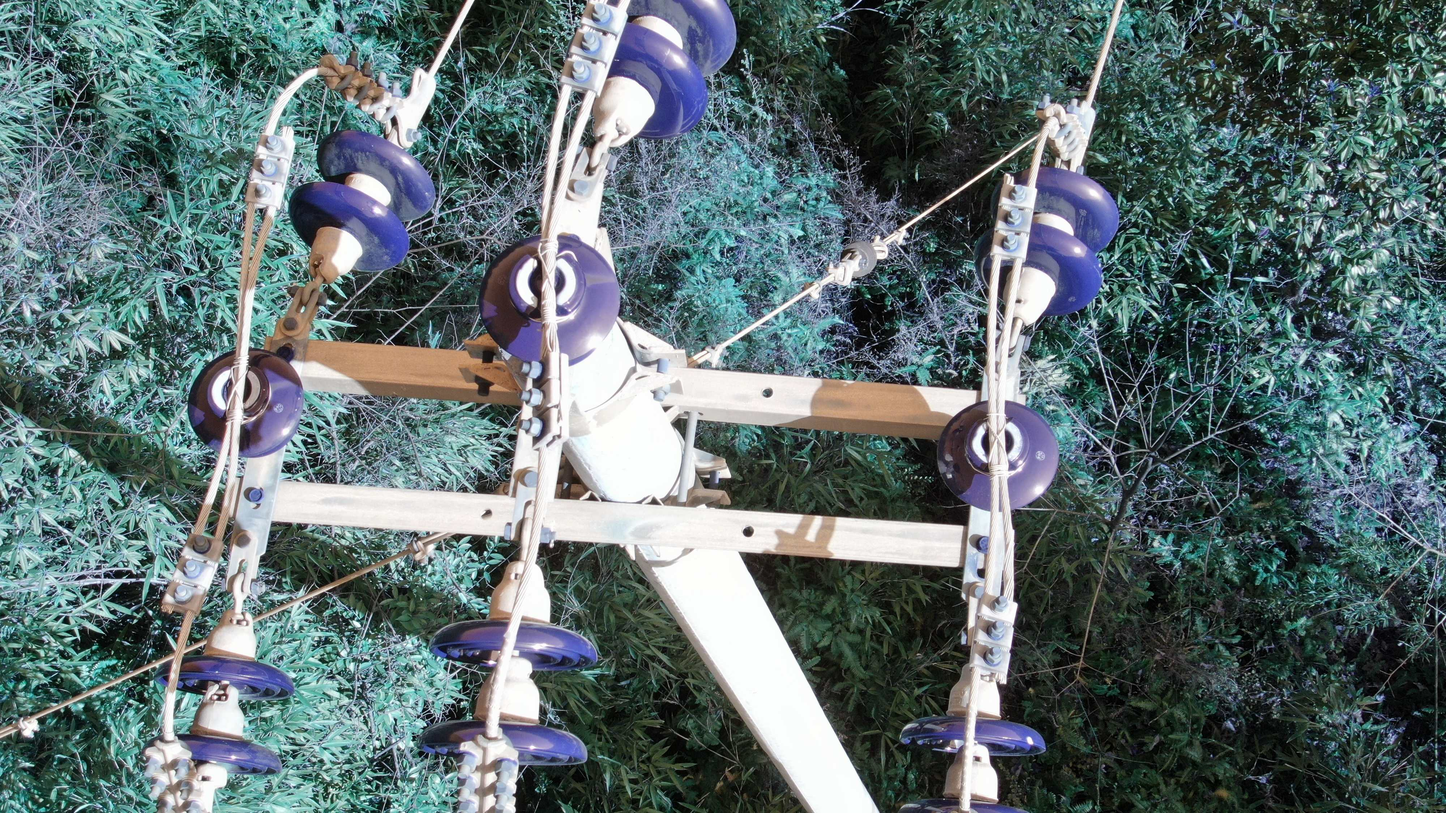severe_soiling_no_discharge_whole: (284, 122, 438, 288)
